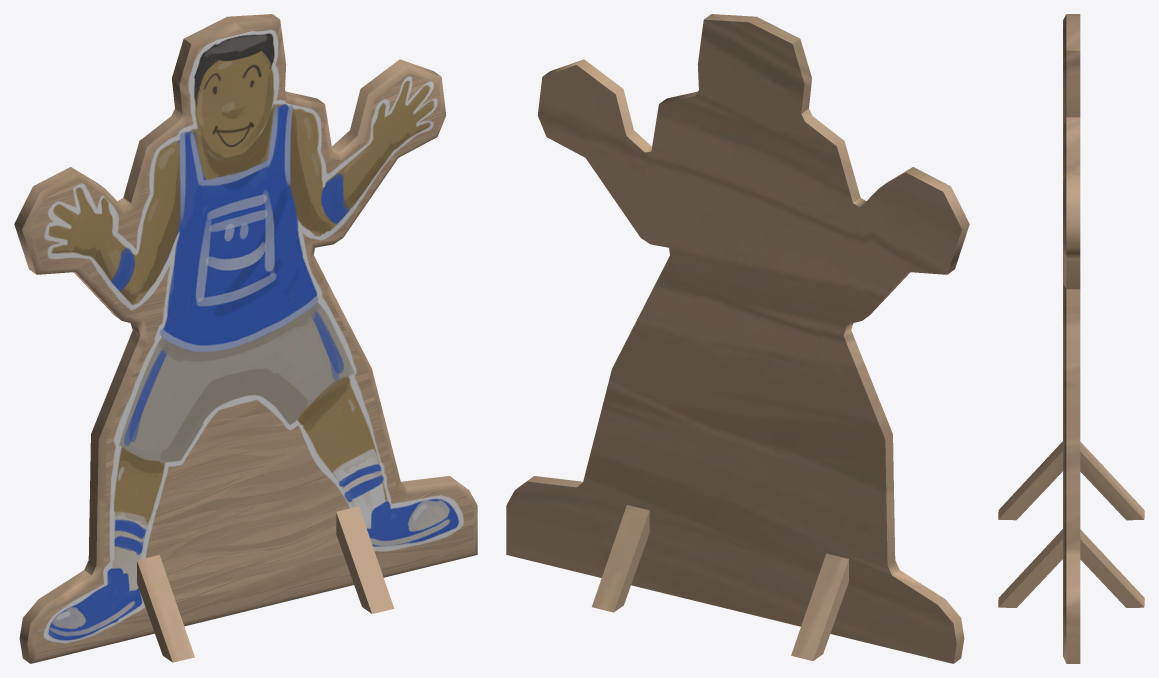
Rendered from standee male.glb.
3 renders of one model, left to right at view 1: azimuth 30°, elevation 25°; view 2: azimuth 150°, elevation 25°; view 3: azimuth 270°, elevation 25°, orthographic. The views are drawn at different scales.
Parts seen in each view (by area): view 1: PracticeMale_Cutout_LOD0; view 2: PracticeMale_Cutout_LOD0; view 3: PracticeMale_Cutout_LOD0.
Part boxes in pixels (x1,y1,x2,y2): PracticeMale_Cutout_LOD0: [14, 14, 477, 663]; PracticeMale_Cutout_LOD0: [506, 14, 969, 663]; PracticeMale_Cutout_LOD0: [998, 14, 1144, 663].
Size of the model in its own units: 1.45 by 1.79 by 0.4459.
Materials: 1 (1 with a texture image).
